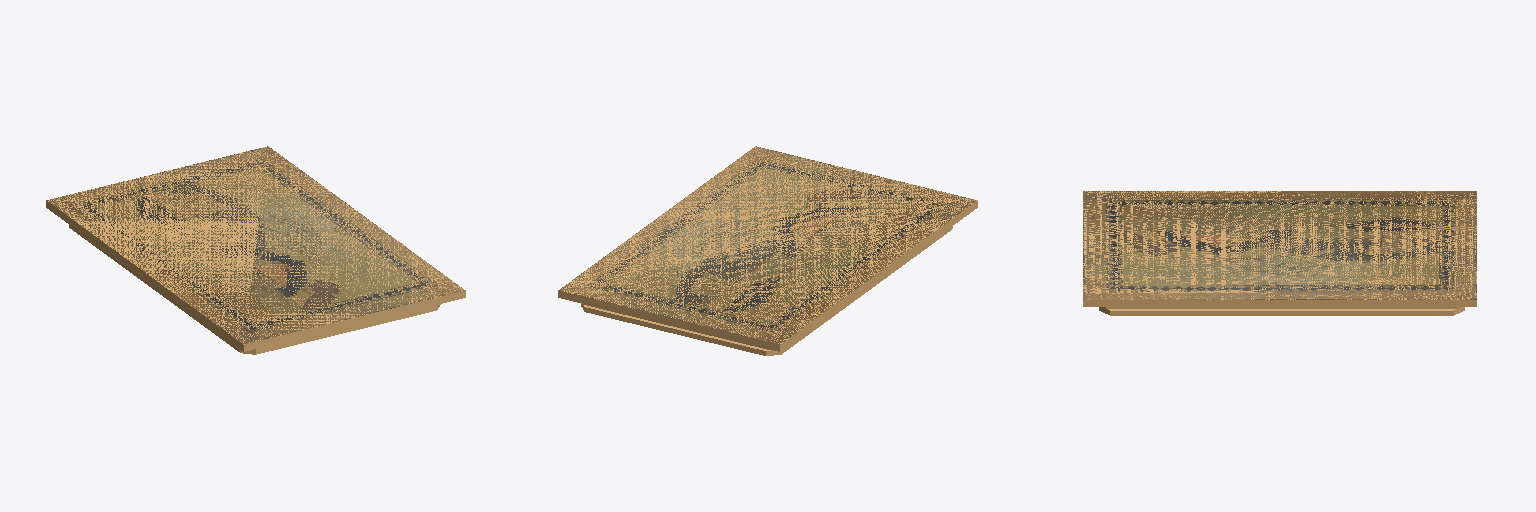
3 views of the same model, side by side, from view 1: azimuth 30°, elevation 25°; view 2: azimuth 150°, elevation 25°; view 3: azimuth 270°, elevation 25° (orthographic).
Visible parts, largest first — view 1: Mesh1 Model; view 2: Mesh1 Model; view 3: Mesh1 Model.
Boxes of the visible parts, x1=… form: Mesh1 Model: x1=46, y1=146, x2=465, y2=354; Mesh1 Model: x1=558, y1=146, x2=977, y2=355; Mesh1 Model: x1=1083, y1=191, x2=1476, y2=315.
Bounding box in the file's own units: 93 × 8.5 × 143.
2 materials, 1 textured.